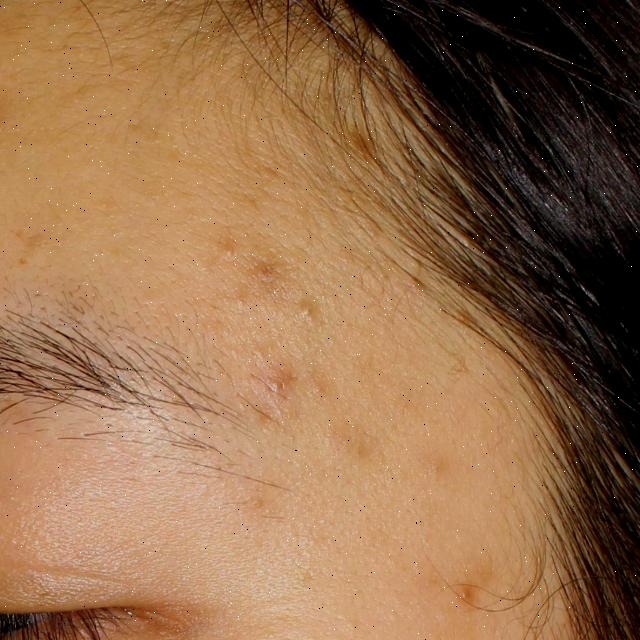nodules: (260, 363, 301, 407)
